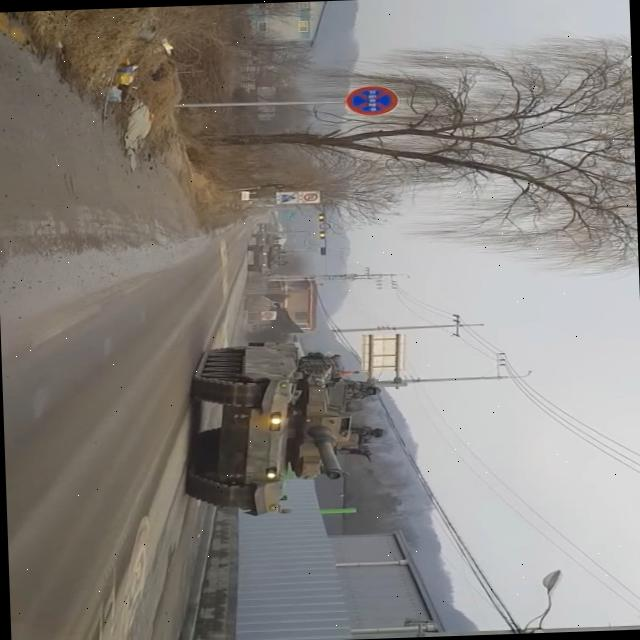korea tank: (175, 336, 388, 518)
